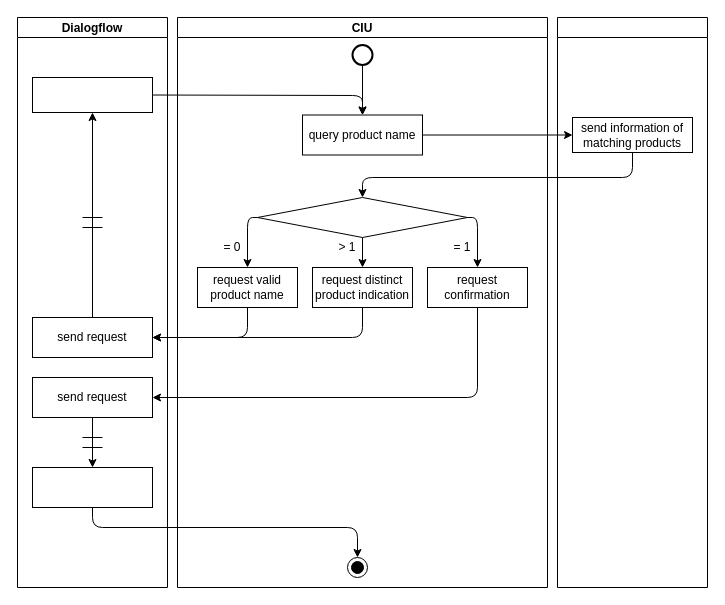
This 725x605 diagram has some shape labels left out. Each missing label, with the box of its shape:
amount of received products: (256, 196, 468, 238)
Fridgy: (556, 16, 708, 588)
receive confirmation: (32, 466, 152, 508)
receive product name: (32, 76, 152, 112)
